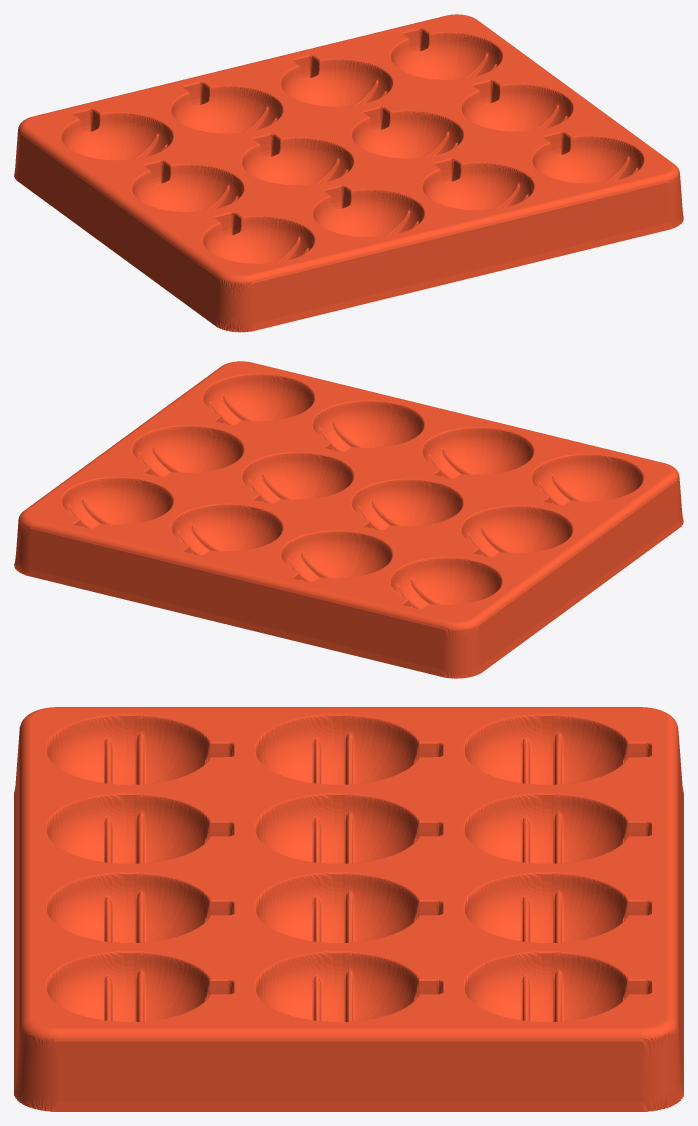
Rendered from mold.glb.
The picture shows the model from 3 angles, top to bottom: view 1: azimuth 30°, elevation 25°; view 2: azimuth 150°, elevation 25°; view 3: azimuth 270°, elevation 25°; orthographic projection. The views are drawn at different scales.
Parts seen in each view (by area): view 1: geometry_0; view 2: geometry_0; view 3: geometry_0.
Boxes of the visible parts, x1,y1,x2,y2 form: geometry_0: (14, 14, 683, 332); geometry_0: (14, 361, 683, 678); geometry_0: (14, 707, 683, 1111).
Size of the model in its own units: 0.1642 by 0.0175 by 0.1389.
